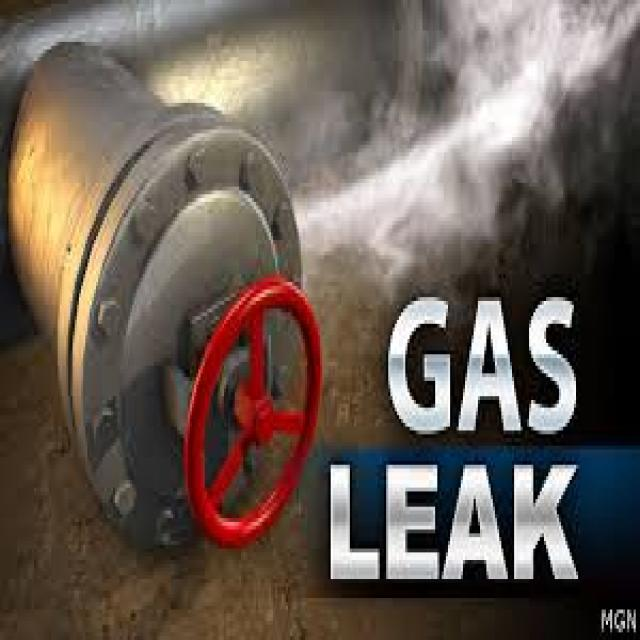corrosion: (258, 111, 375, 363)
